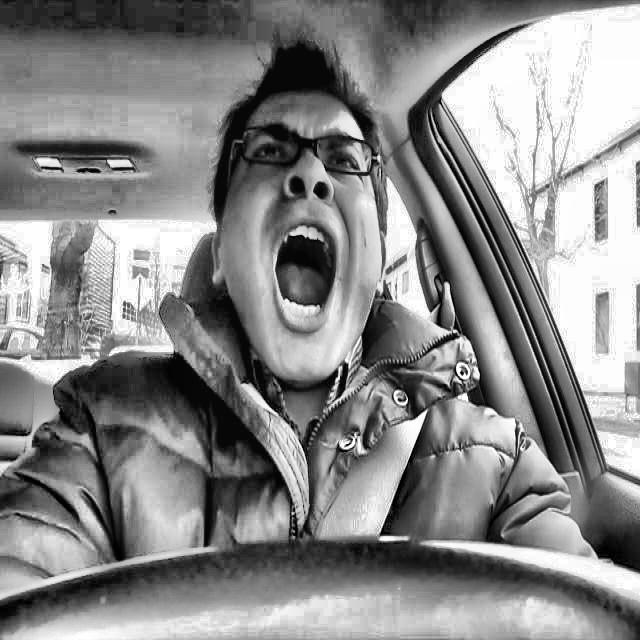open_eyes: (241, 128, 299, 175), (317, 139, 370, 184)
open_mouth: (258, 209, 350, 349)
